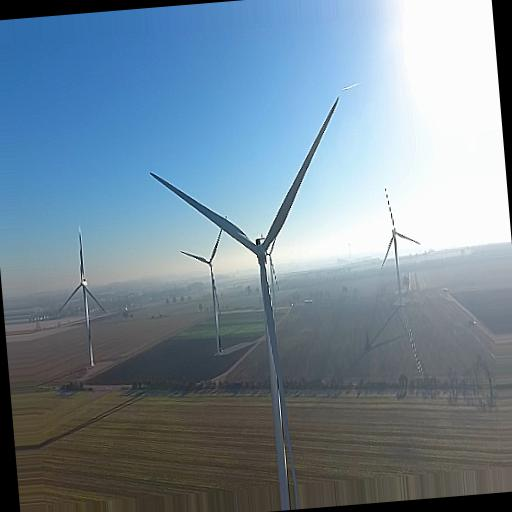wind turbine: (147, 96, 340, 473), (59, 226, 108, 370), (181, 217, 226, 350), (378, 184, 424, 297)
